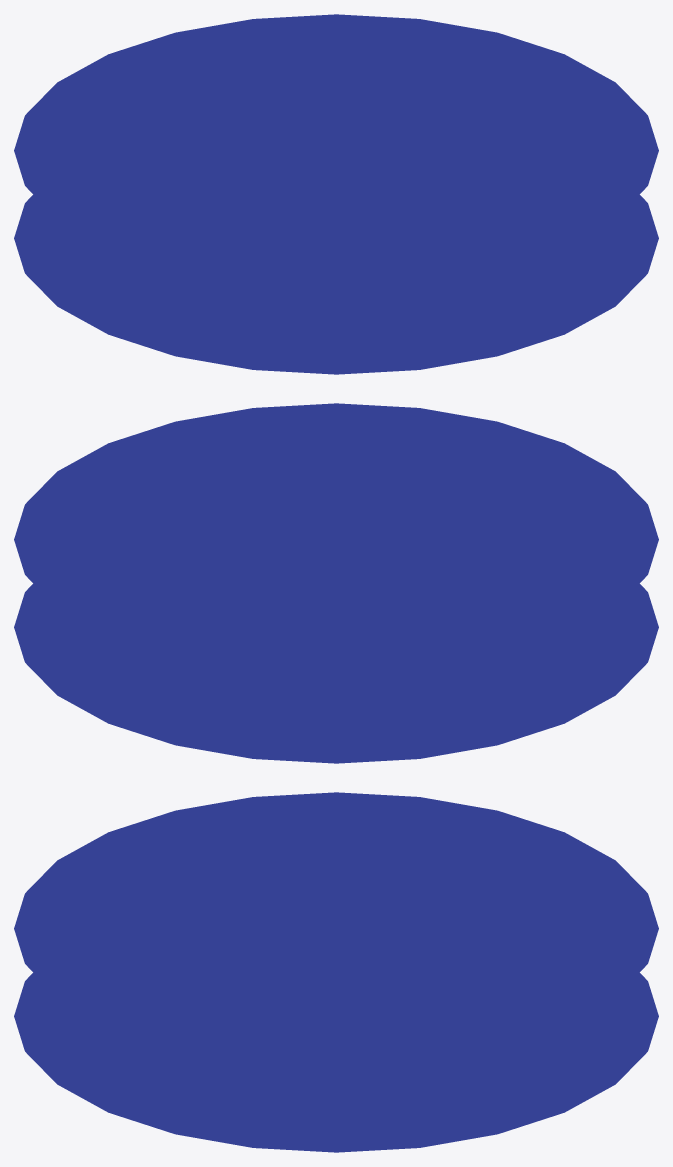
File: Test00_InflatingDisks_Dynamic.glb
3 renders of one model, top to bottom at view 1: azimuth 30°, elevation 25°; view 2: azimuth 150°, elevation 25°; view 3: azimuth 270°, elevation 25°, orthographic.
Parts seen in each view (by area): view 1: converted_0; view 2: converted_0; view 3: converted_0.
Part boxes in pixels (x1,y1,x2,y2): converted_0: (14,14,658,374); converted_0: (14,403,658,763); converted_0: (14,792,658,1152).
Size of what is drawn, in the model's own units: 0.2 by 0.03 by 0.2.
